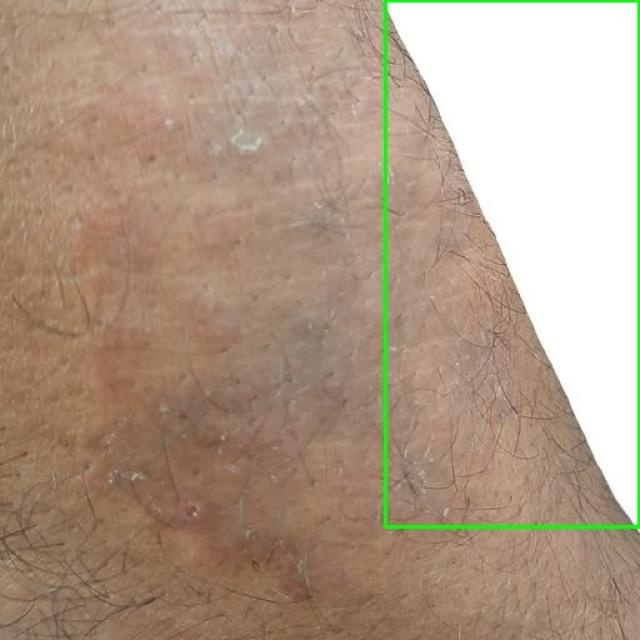Tinea Corporis: (385, 0, 639, 526)
